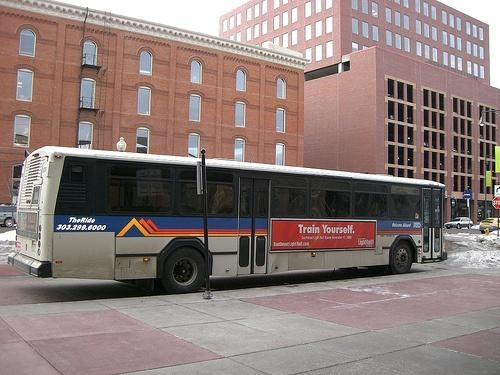bus: (7, 145, 449, 295)
car: (447, 216, 475, 232)
